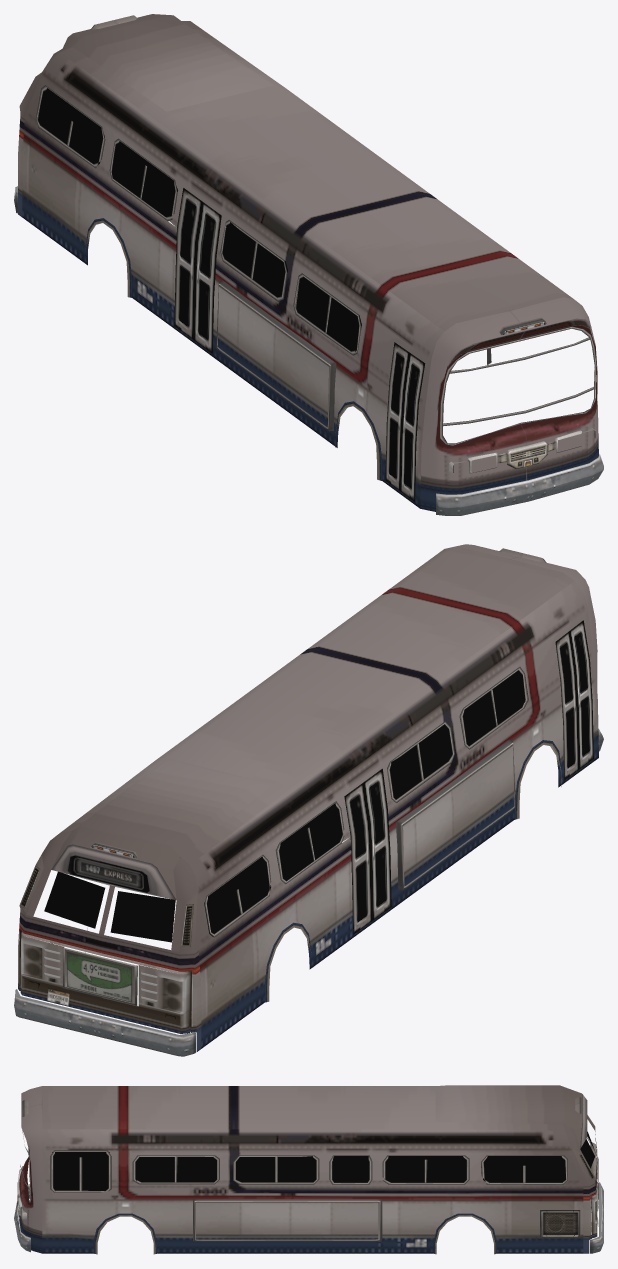
Rendered from car-HEVY_Car9.glb.
3 views of the same model, one above another, from view 1: azimuth 30°, elevation 25°; view 2: azimuth 150°, elevation 25°; view 3: azimuth 270°, elevation 25° (orthographic). The views are drawn at different scales.
Visible parts, largest first — view 1: HEVY_Car9; view 2: HEVY_Car9; view 3: HEVY_Car9.
Boxes of the visible parts, bbox=[...] form: HEVY_Car9: bbox=[14, 14, 603, 515]; HEVY_Car9: bbox=[14, 544, 603, 1056]; HEVY_Car9: bbox=[14, 1085, 603, 1254].
Size of the model in its own units: 2.67 by 2.52 by 10.77.
4 materials, 4 textured.
